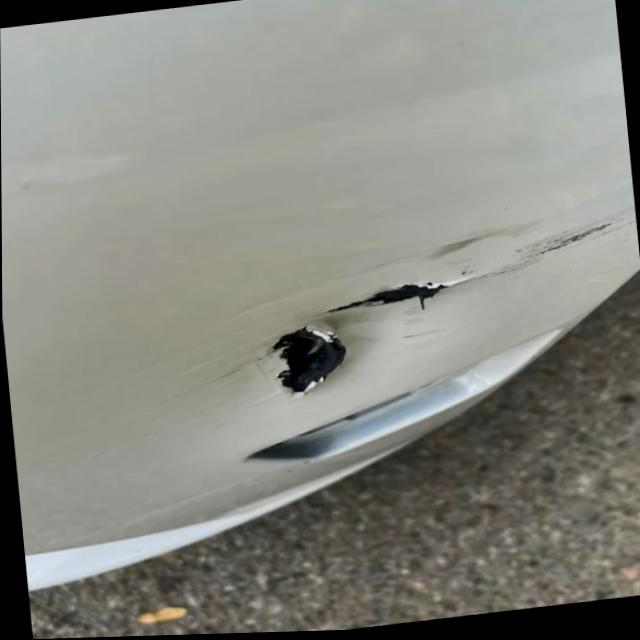Crack: (261, 318, 352, 399), (320, 273, 456, 318)
Scratch: (420, 213, 636, 286)
